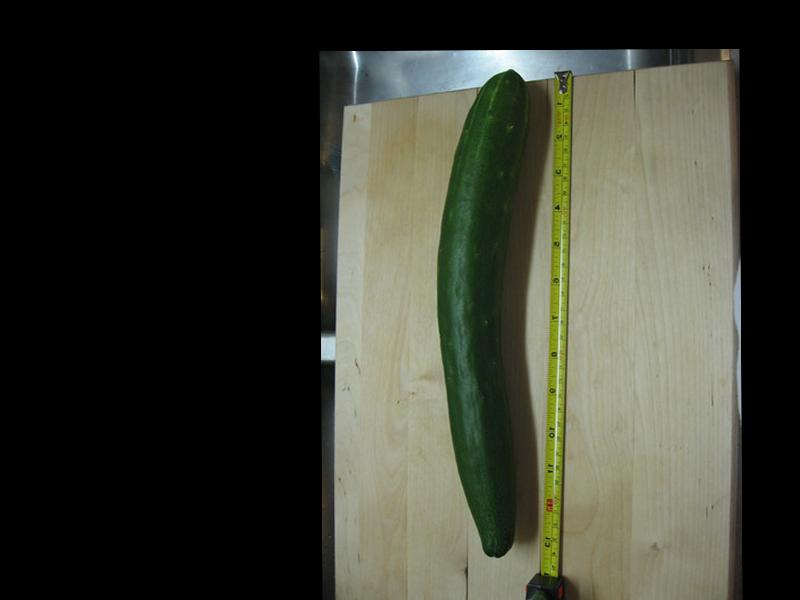Cucumber: (436, 69, 533, 558)
